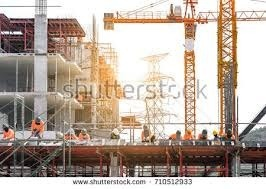person without safety: (28, 114, 46, 149), (1, 122, 16, 147), (60, 126, 78, 145), (77, 127, 91, 143)
